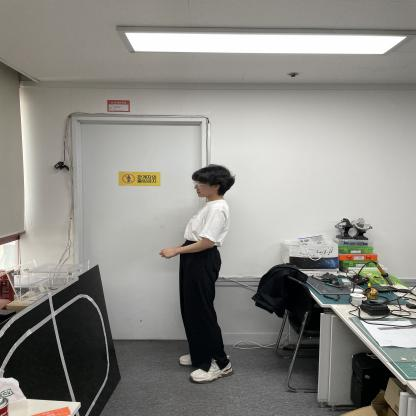normal: (158, 155, 237, 386)
